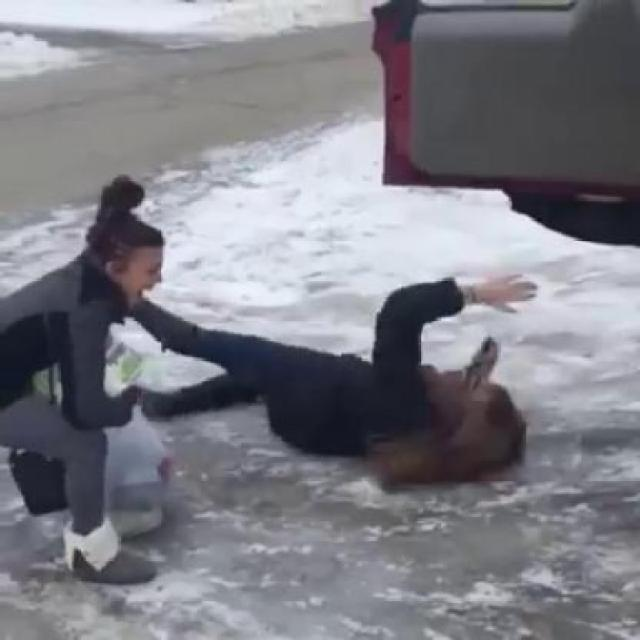fall: (163, 270, 549, 485)
